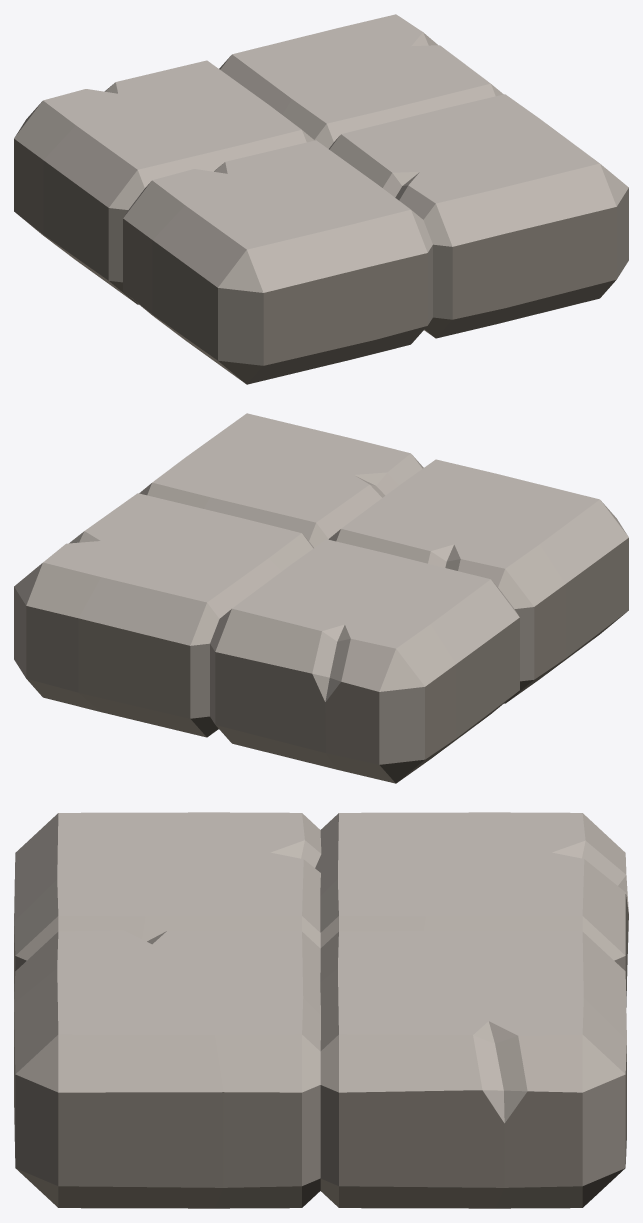
File: m_kub_stone_floorFour.FBX
3 views of the same model, one above another, from view 1: azimuth 30°, elevation 25°; view 2: azimuth 150°, elevation 25°; view 3: azimuth 270°, elevation 25° (orthographic). The views are drawn at different scales.
Parts seen in each view (by area): view 1: m_kub_stone_floorFour; view 2: m_kub_stone_floorFour; view 3: m_kub_stone_floorFour.
Boxes of the visible parts, bbox=[...] form: m_kub_stone_floorFour: bbox=[14, 14, 628, 384]; m_kub_stone_floorFour: bbox=[14, 413, 628, 783]; m_kub_stone_floorFour: bbox=[14, 812, 628, 1208].
Size of the model in its own units: 2.19 by 0.6828 by 2.19.
